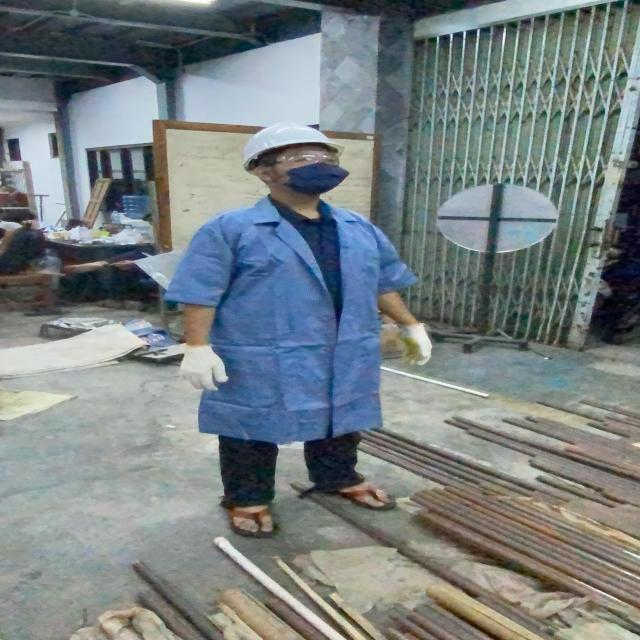glasses: (265, 150, 343, 168)
